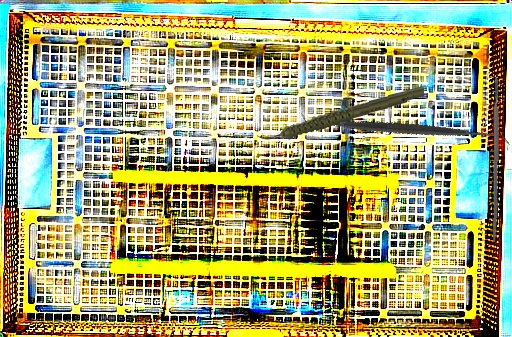Handpiece: (254, 84, 427, 143)
Scalpel Handle: (491, 78, 501, 243)
Spatula Surgical: (299, 23, 512, 235)
